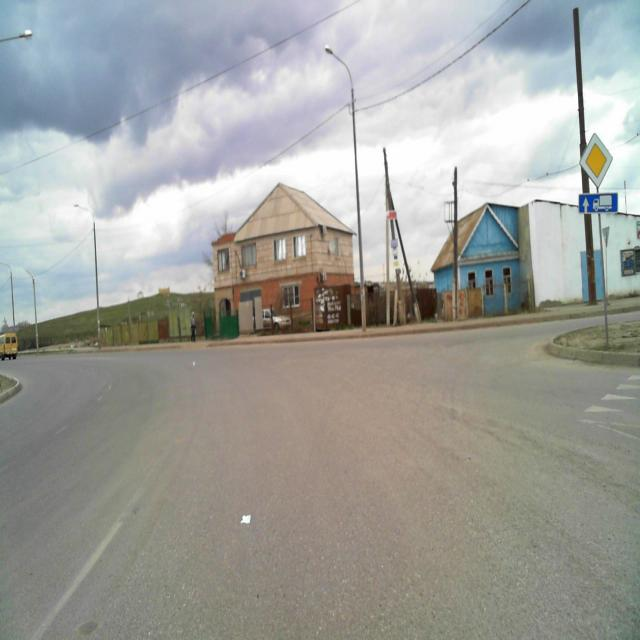road sign: (580, 131, 612, 189), (577, 193, 619, 213)
